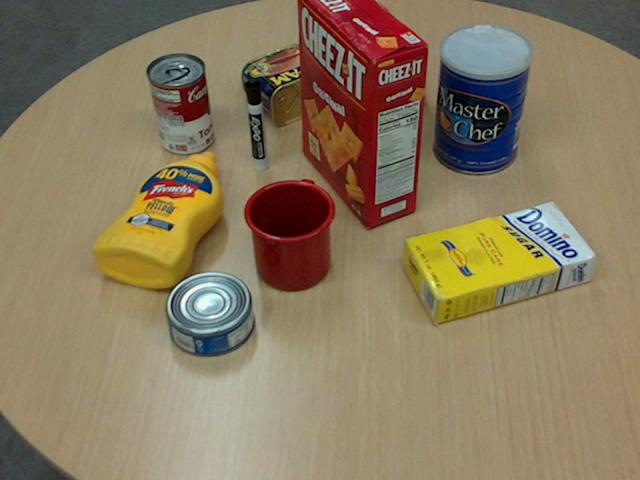cracker_box: (297, 0, 427, 225)
gelatin_box: (360, 51, 423, 108)
large_marker: (244, 78, 266, 171)
master_chef_can: (432, 25, 531, 175)
mug: (241, 179, 334, 290)
mustard_bottle: (92, 151, 222, 287)
potted_meat_can: (241, 43, 340, 124)
sugar_box: (400, 201, 596, 325)
tomato_soup_can: (146, 51, 212, 153)
tuna_fish_can: (164, 271, 253, 356)
